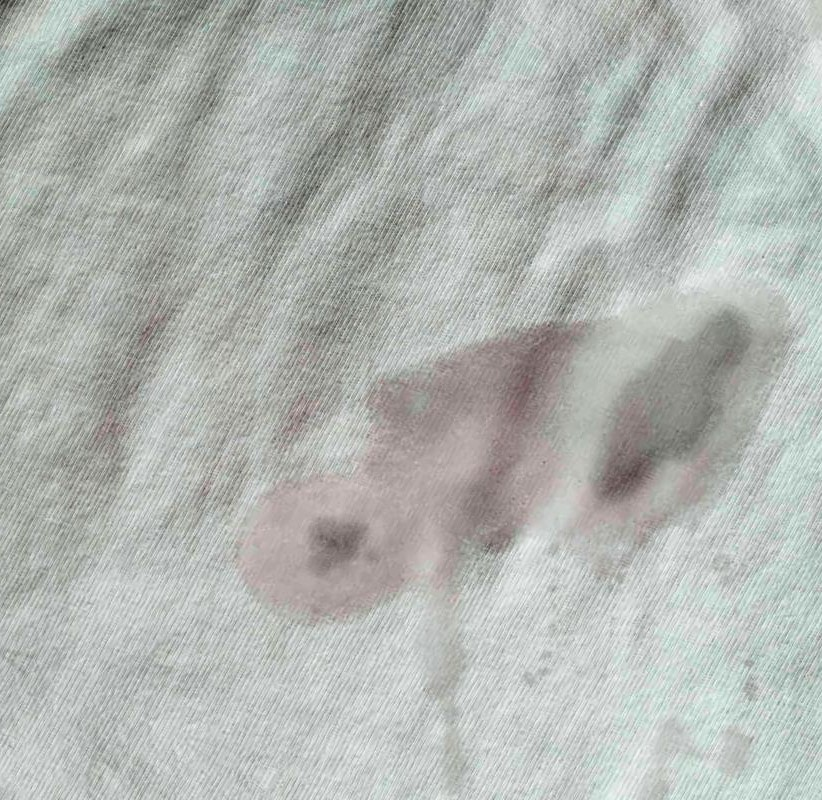stain: (226, 273, 790, 645)
